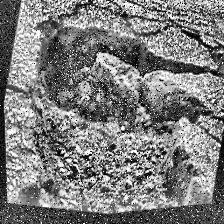pothole: (4, 4, 224, 224)
